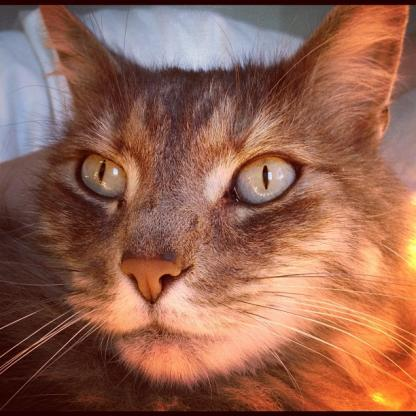Target: (3, 0, 416, 412)
